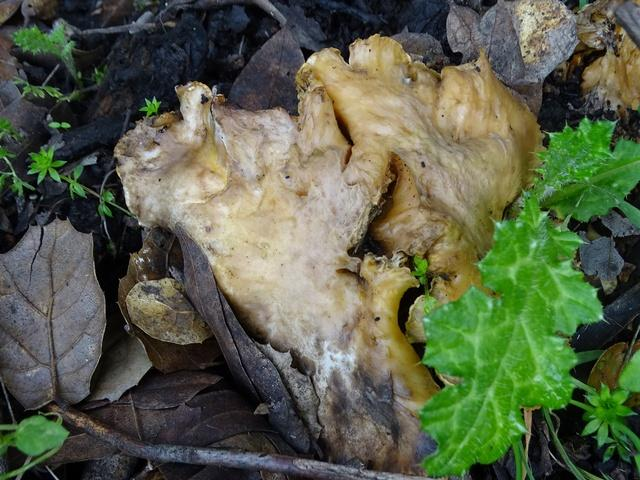edible_mushroom: (111, 31, 546, 475)
